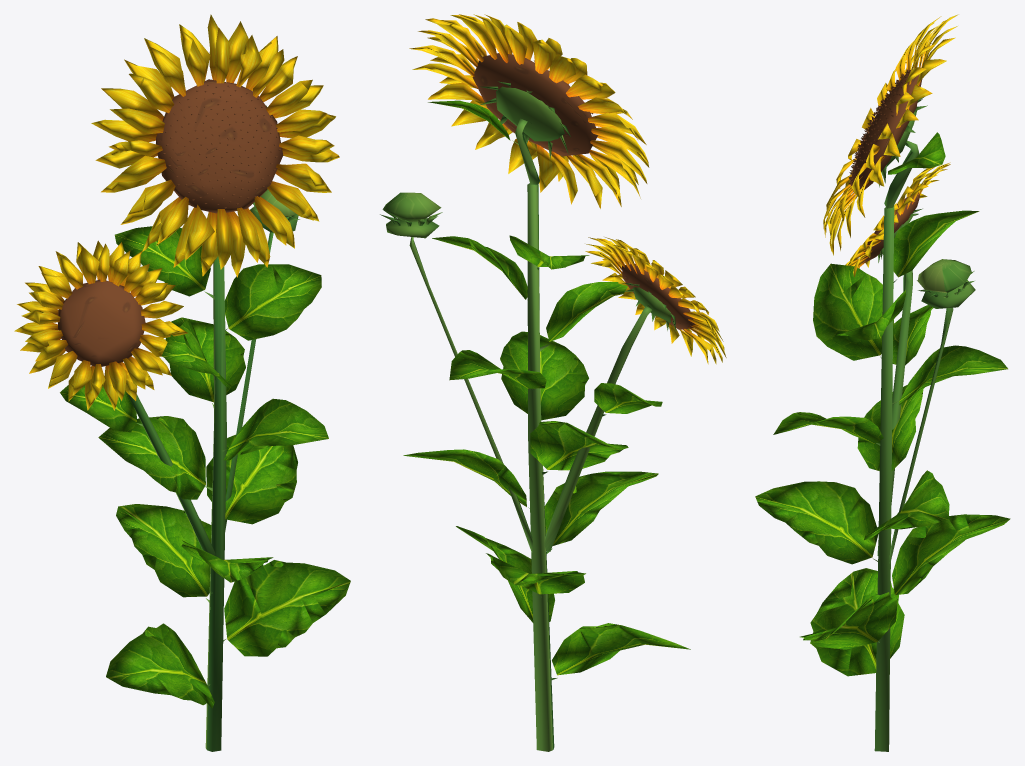
The model's file is NP_Sunflower_Ready_LOD1.fbx.
3 renders of one model, left to right at view 1: azimuth 30°, elevation 25°; view 2: azimuth 150°, elevation 25°; view 3: azimuth 270°, elevation 25°, orthographic. The views are drawn at different scales.
Visible parts, largest first — view 1: NP_Sunflower_Ready; view 2: NP_Sunflower_Ready; view 3: NP_Sunflower_Ready.
Part boxes in pixels (x1,y1,x2,y2): NP_Sunflower_Ready: [14, 14, 350, 751]; NP_Sunflower_Ready: [380, 14, 726, 751]; NP_Sunflower_Ready: [755, 14, 1010, 751].
Size of the model in its own units: 61.24 by 136 by 43.27.
